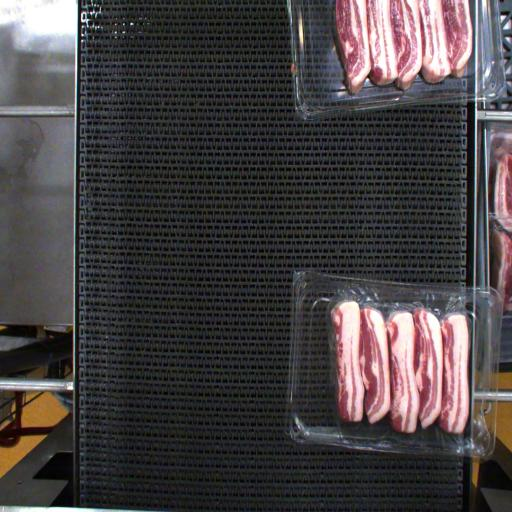unsealed: (321, 284, 479, 391)
